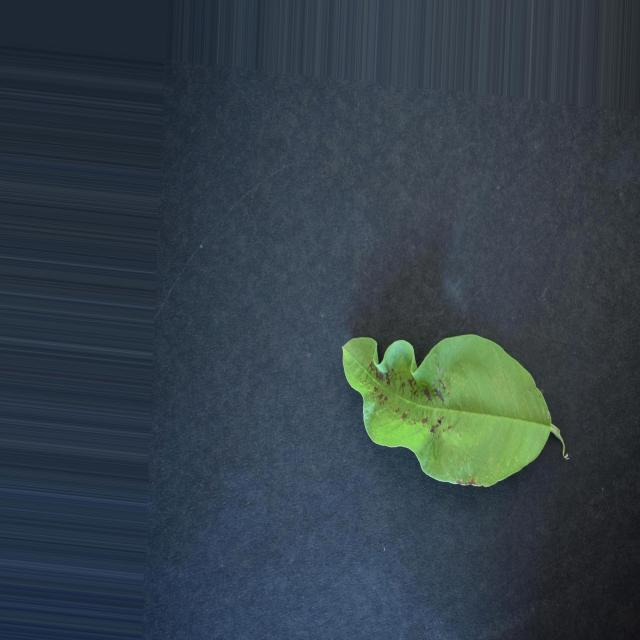Canker: (342, 336, 561, 488)
